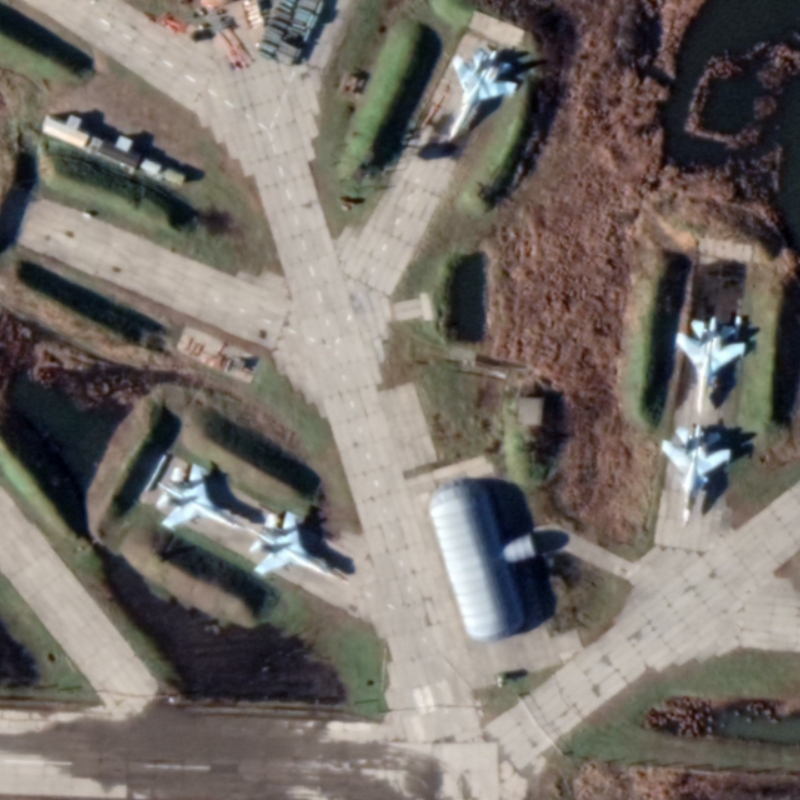A1: (672, 314, 749, 416), (245, 508, 346, 583), (445, 48, 518, 145), (153, 459, 245, 533)
A19: (659, 422, 733, 529)
